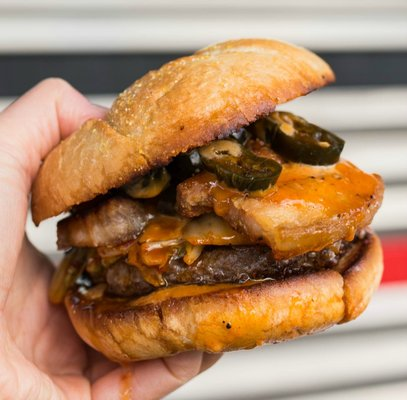soup: (2, 37, 391, 385)
